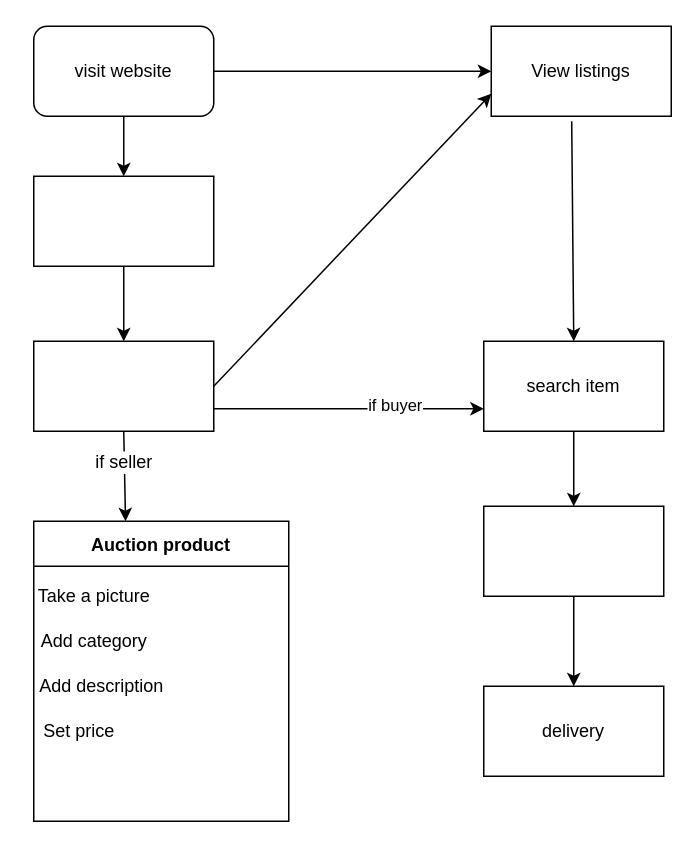
Some shapes in this 698 by 848 pixel diagram are drawn without their labels. Here are the shapes that lost their labels. From the top down, the centre of each, then its label:
At pixel 123 220: "register".
At pixel 123 385: "login".
At pixel 573 550: "contact seller".
